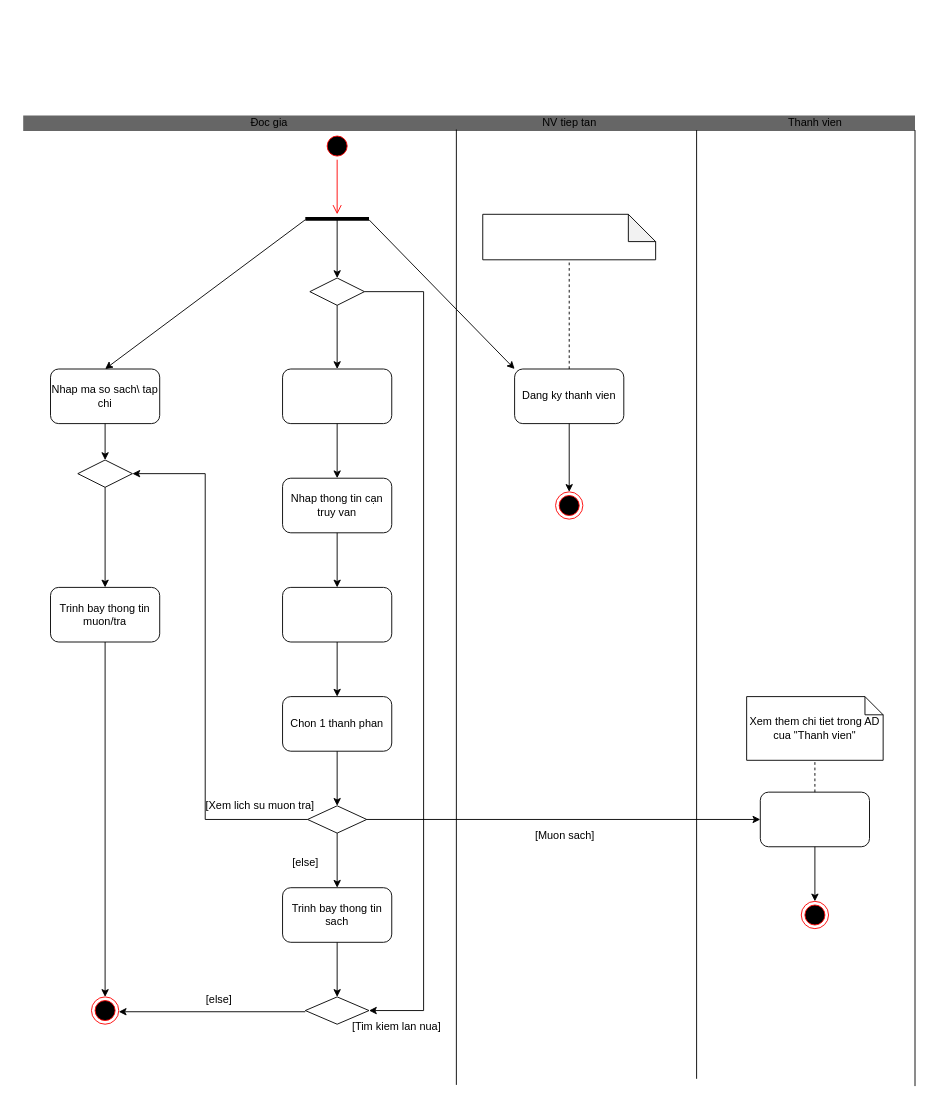
This 938x1103 diagram has some shape labels left out. Here are the shapes that lost their labels. From the top down, the centre of each, then its label:
(x=569, y=236): Xem chúng chi tiết trongADcủa "NV tiep tan"
(x=337, y=396): Chon loại tim kiem
(x=337, y=614): Lien ket danh sach ket qua
(x=814, y=819): Xu ly muon sach
